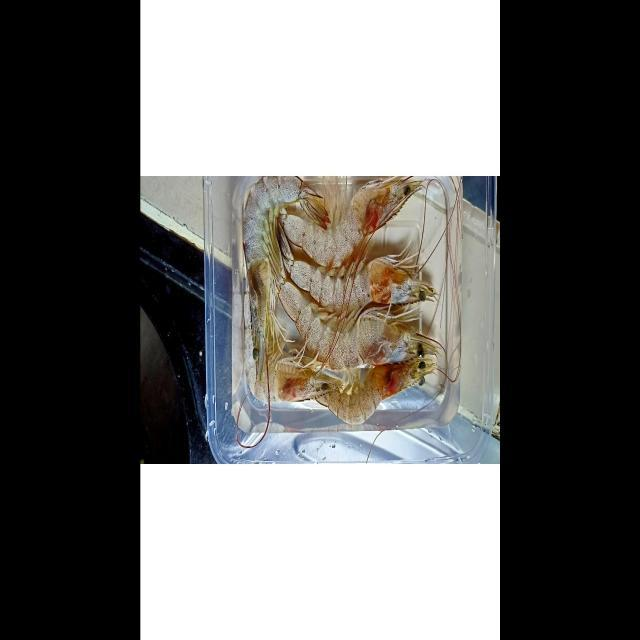shrimp: (243, 176, 330, 390), (279, 281, 438, 370), (281, 180, 422, 268), (284, 257, 436, 311), (316, 361, 434, 425), (243, 292, 268, 404), (269, 364, 342, 402)
